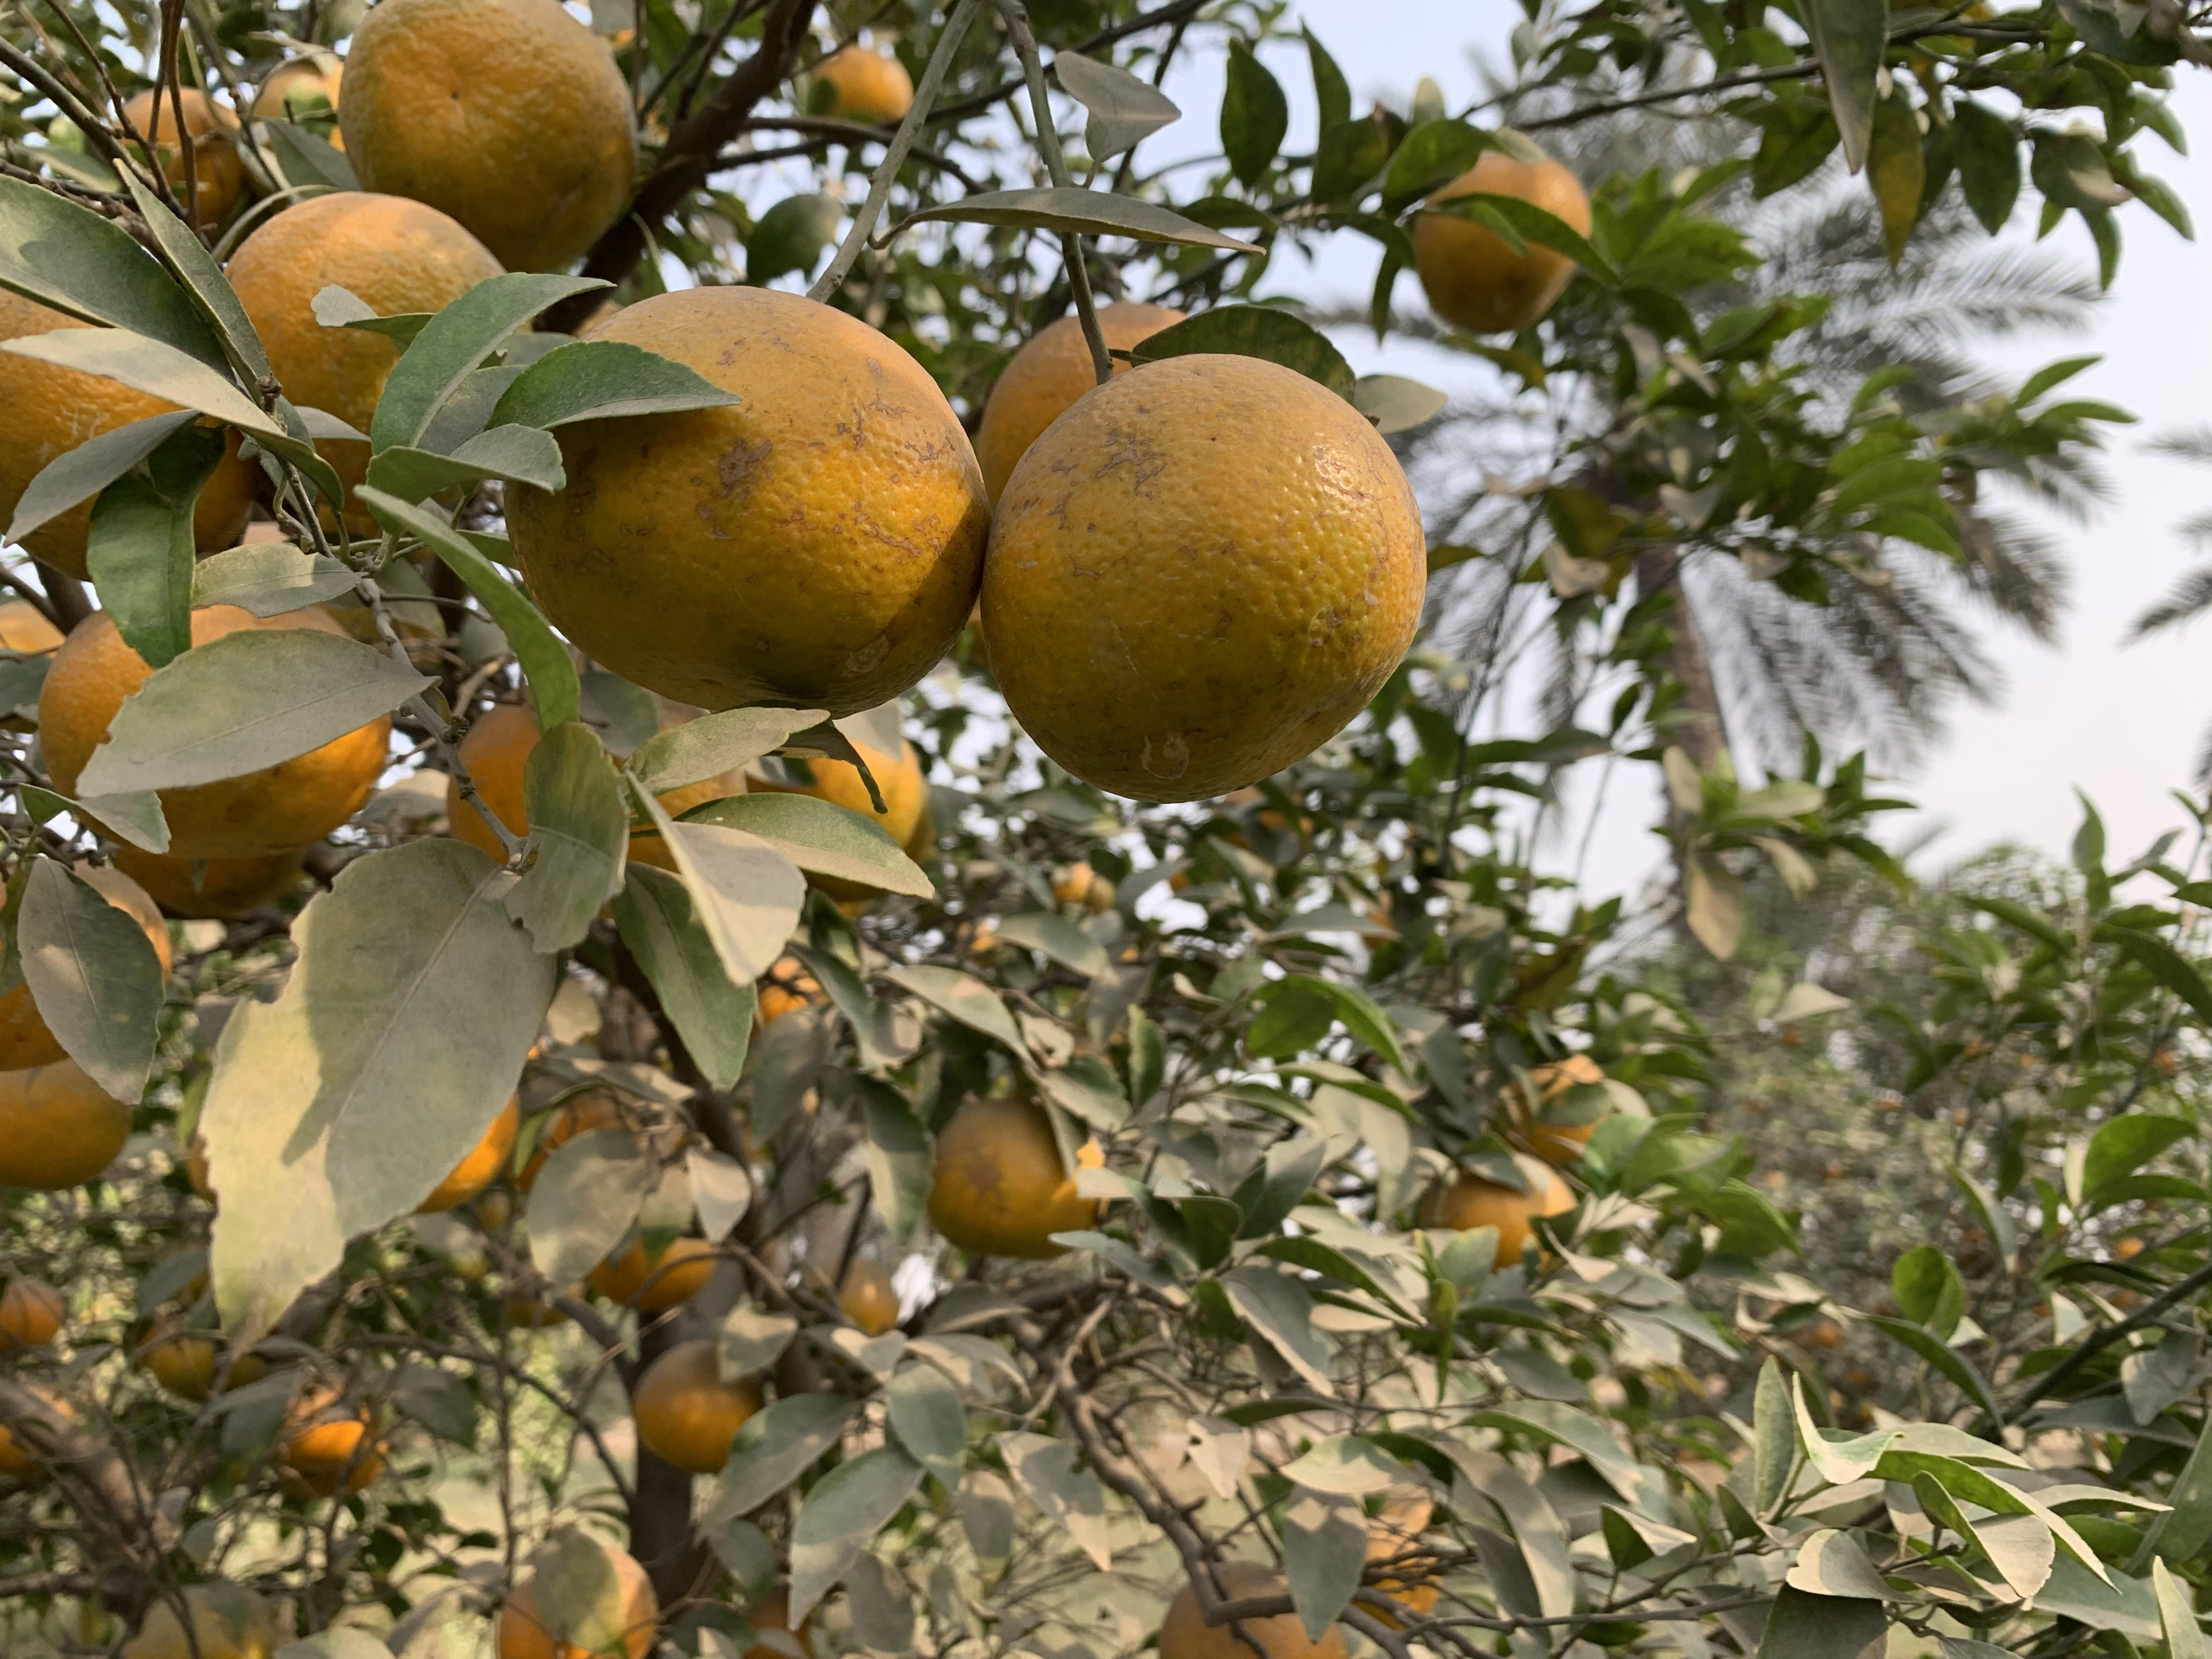orange: (505, 284, 984, 718), (984, 354, 1428, 802), (226, 192, 528, 512), (35, 608, 381, 850), (341, 9, 629, 268), (0, 291, 253, 577), (448, 681, 749, 915), (977, 303, 1174, 481), (10, 864, 169, 1068), (1414, 152, 1592, 329), (752, 732, 932, 906), (925, 1100, 1106, 1255), (110, 87, 244, 230), (496, 1546, 650, 1659), (1420, 1152, 1575, 1263), (1158, 1563, 1338, 1659), (634, 1342, 758, 1464), (2, 1066, 125, 1187), (111, 845, 305, 915), (413, 1084, 514, 1206), (273, 1387, 376, 1493), (143, 1584, 273, 1659), (247, 49, 343, 150), (523, 1091, 625, 1180), (583, 1239, 712, 1307), (1503, 1060, 1595, 1150), (806, 1246, 897, 1335), (815, 47, 914, 127), (1362, 1523, 1437, 1619), (2, 1380, 73, 1467), (139, 1314, 211, 1392), (754, 958, 824, 1030), (3, 1276, 66, 1349)
